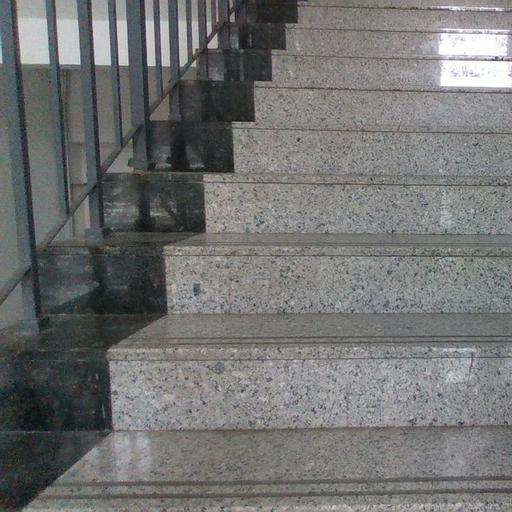stairs: (27, 0, 511, 511), (109, 313, 511, 430)
